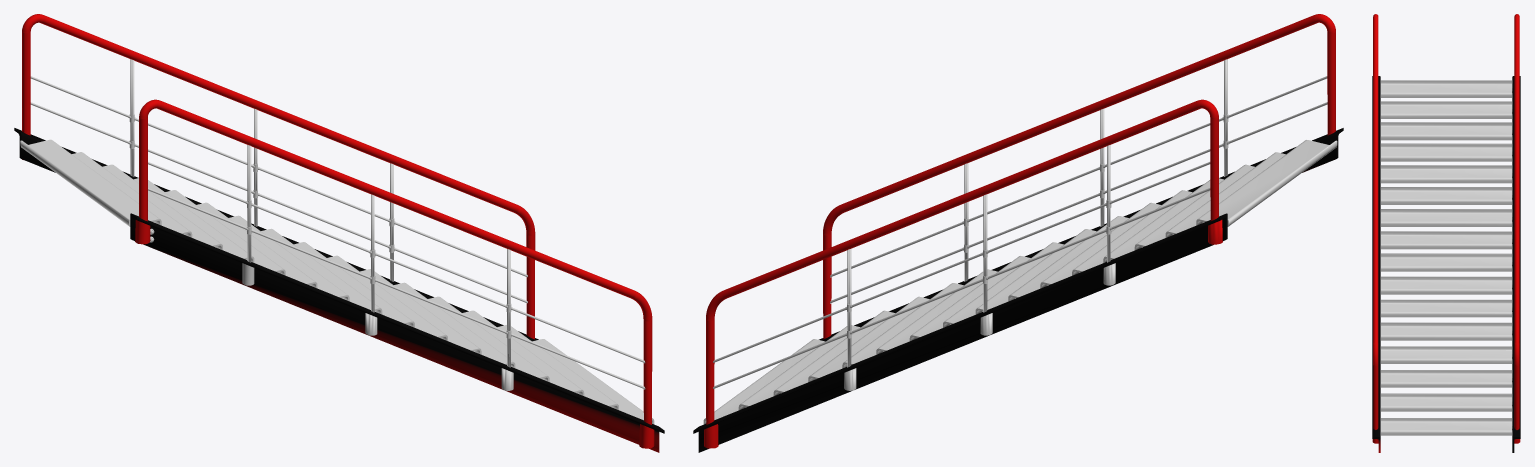
3 views of the same model, side by side, from view 1: azimuth 30°, elevation 25°; view 2: azimuth 150°, elevation 25°; view 3: azimuth 270°, elevation 25° (orthographic). The views are drawn at different scales.
Parts seen in each view (by area): view 1: Mesh; view 2: Mesh; view 3: Mesh.
Part boxes in pixels (<box>): Mesh: <box>14,14,664,452</box>; Mesh: <box>693,14,1343,452</box>; Mesh: <box>1372,14,1520,452</box>.
Bounding box in the file's own units: 5.26 × 4.55 × 2.12.
